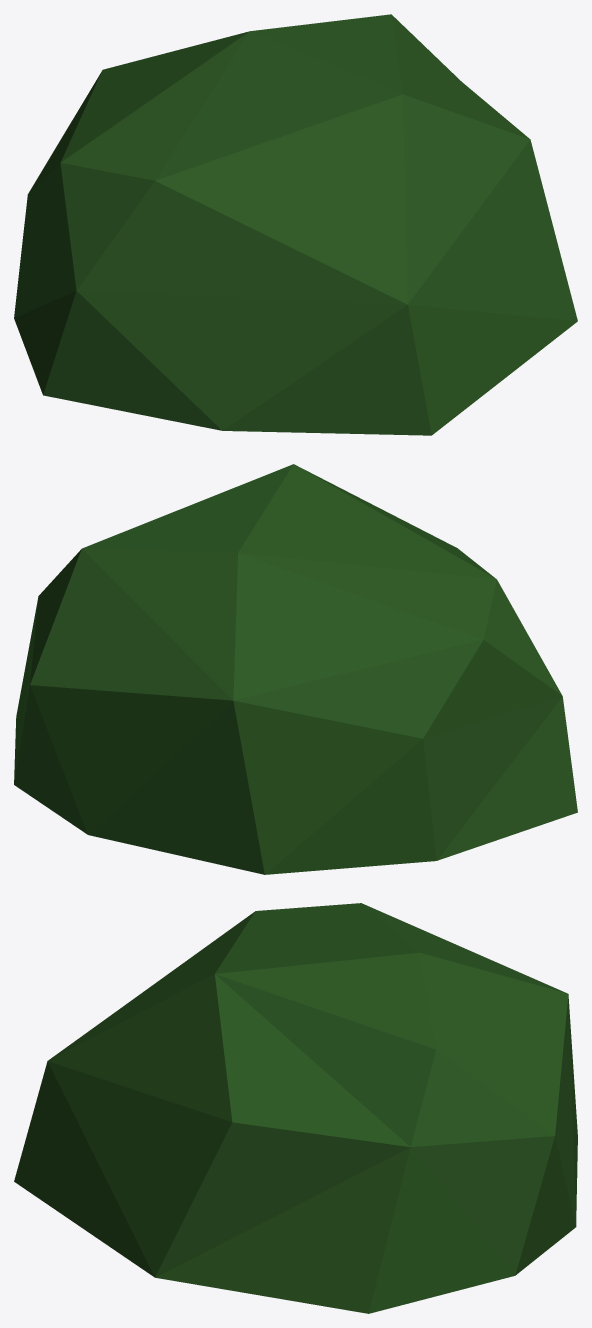
File: Lumpy Bush 2.glb
3 renders of one model, top to bottom at view 1: azimuth 30°, elevation 25°; view 2: azimuth 150°, elevation 25°; view 3: azimuth 270°, elevation 25°, orthographic. The views are drawn at different scales.
Parts seen in each view (by area): view 1: Lumpy Bush 2; view 2: Lumpy Bush 2; view 3: Lumpy Bush 2.
Boxes of the visible parts, <box> form: Lumpy Bush 2: <box>14,14,577,435</box>; Lumpy Bush 2: <box>14,464,577,874</box>; Lumpy Bush 2: <box>14,903,577,1313</box>.
Bounding box in the file's own units: 0.5996 × 0.27 × 0.5679.
